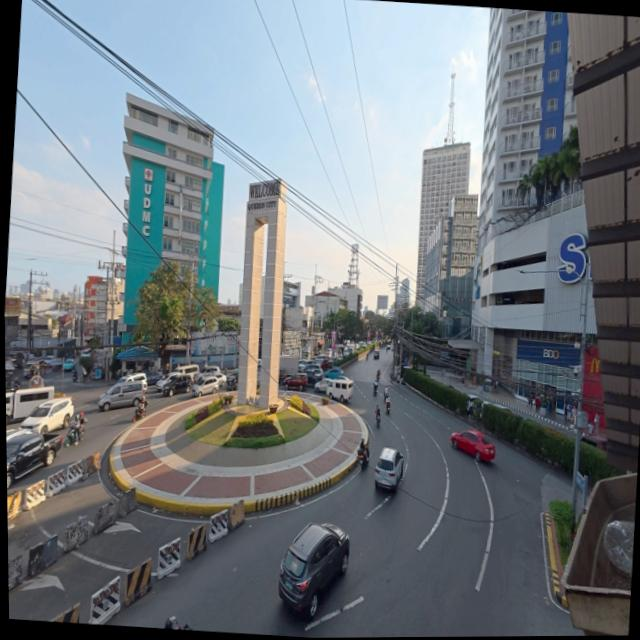car: (274, 523, 353, 630), (449, 428, 499, 464), (370, 446, 405, 497), (156, 372, 198, 398), (190, 372, 221, 398)
trucks: (6, 429, 57, 497)
vans: (6, 382, 55, 428), (96, 379, 146, 414), (317, 370, 358, 402)
